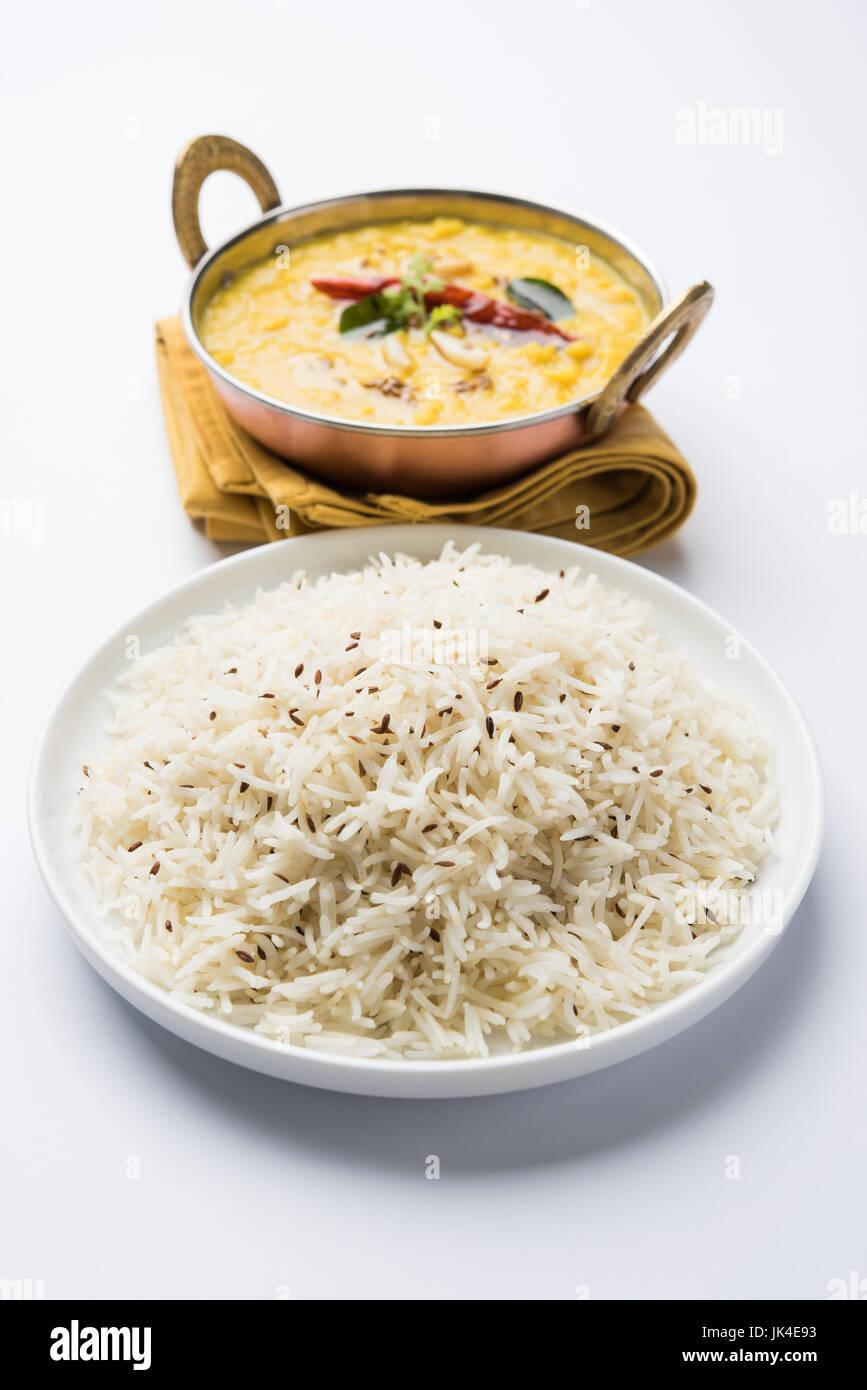dal: (234, 196, 620, 428)
rice: (80, 548, 734, 1030)
